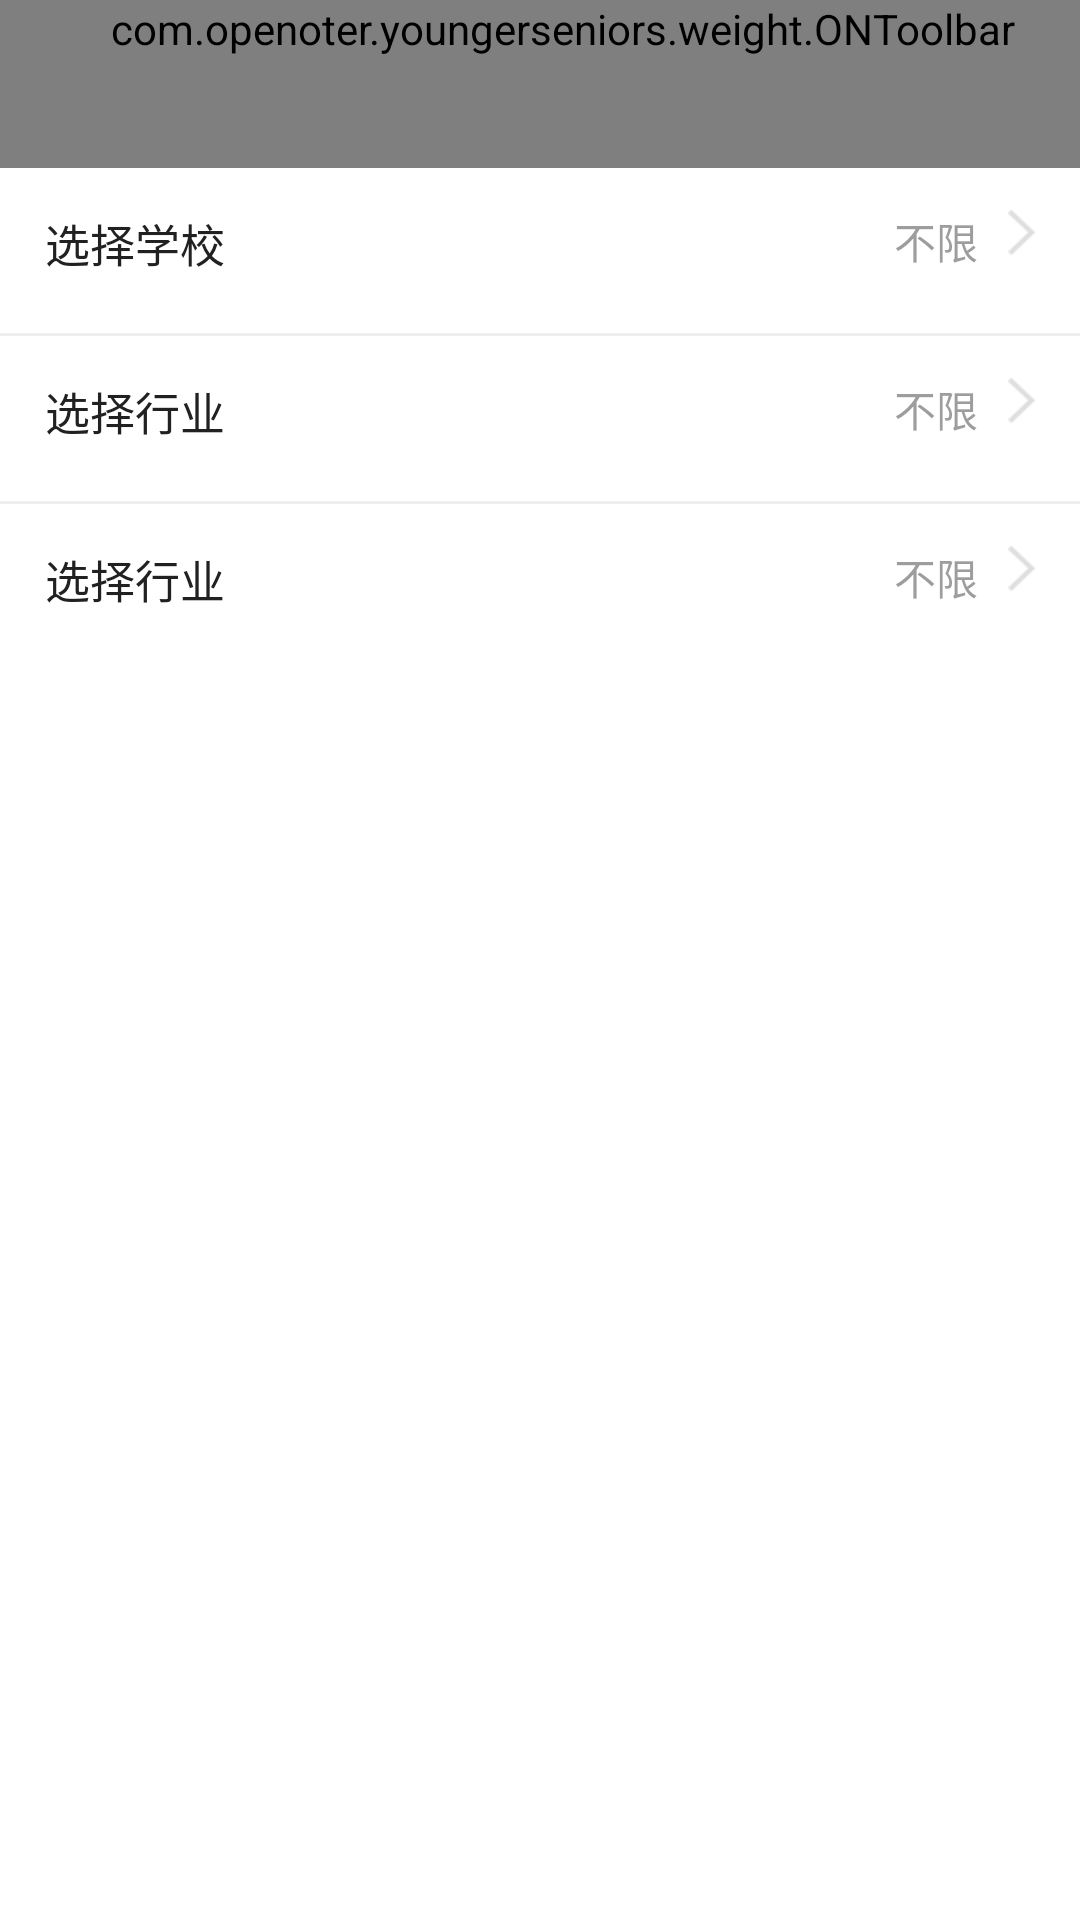

Icon bounding boxes for this 1080px x 1920px phone screenshot, format (x1, y1, x2, y2):
advance right: (1009, 211, 1035, 254), (1009, 379, 1035, 422), (1009, 547, 1035, 590)
